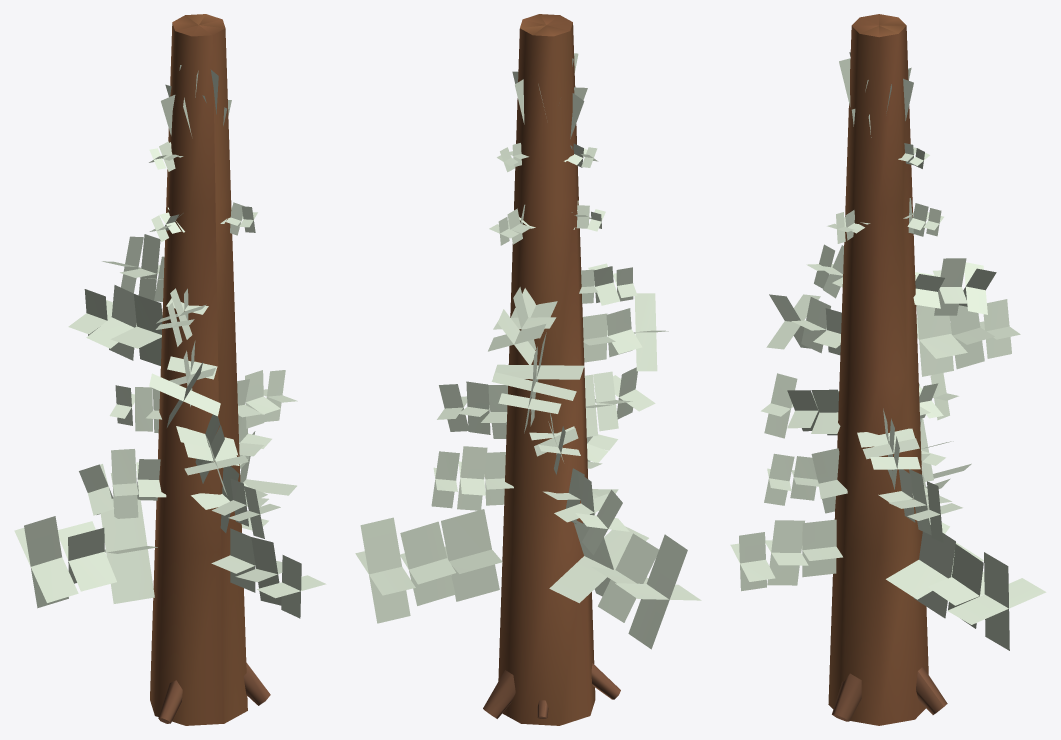
The model's file is mature-lod2.glb.
3 views of the same model, side by side, from view 1: azimuth 30°, elevation 25°; view 2: azimuth 150°, elevation 25°; view 3: azimuth 270°, elevation 25° (orthographic).
Visible parts, largest first — view 1: pine-trunk-branches-buried-roots-ground-blend, pine-needle-sprays; view 2: pine-needle-sprays, pine-trunk-branches-buried-roots-ground-blend; view 3: pine-trunk-branches-buried-roots-ground-blend, pine-needle-sprays.
Part boxes in pixels (<box>): pine-trunk-branches-buried-roots-ground-blend: <box>150,14,270,725</box>; pine-needle-sprays: <box>14,65,326,618</box>; pine-needle-sprays: <box>355,53,701,649</box>; pine-trunk-branches-buried-roots-ground-blend: <box>483,14,620,725</box>; pine-trunk-branches-buried-roots-ground-blend: <box>828,14,947,725</box>; pine-needle-sprays: <box>730,52,1046,650</box>.
Bounding box in the file's own units: 11.35 × 24.32 × 10.27.
